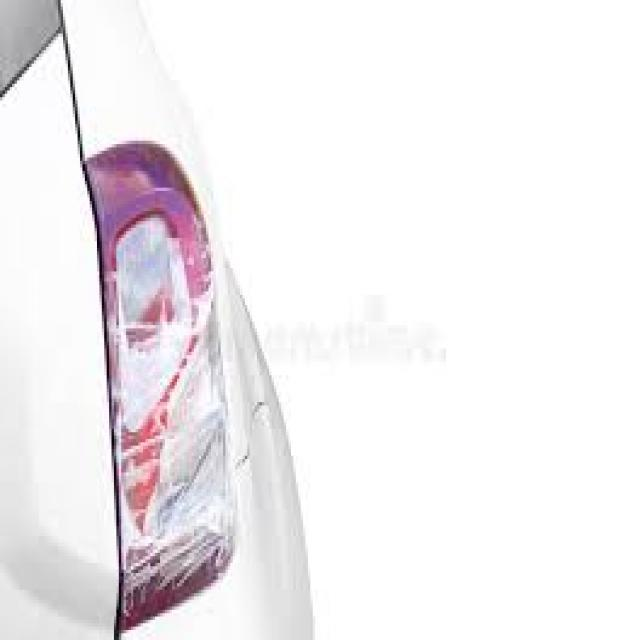damaged-tail-light: (91, 152, 245, 598)
